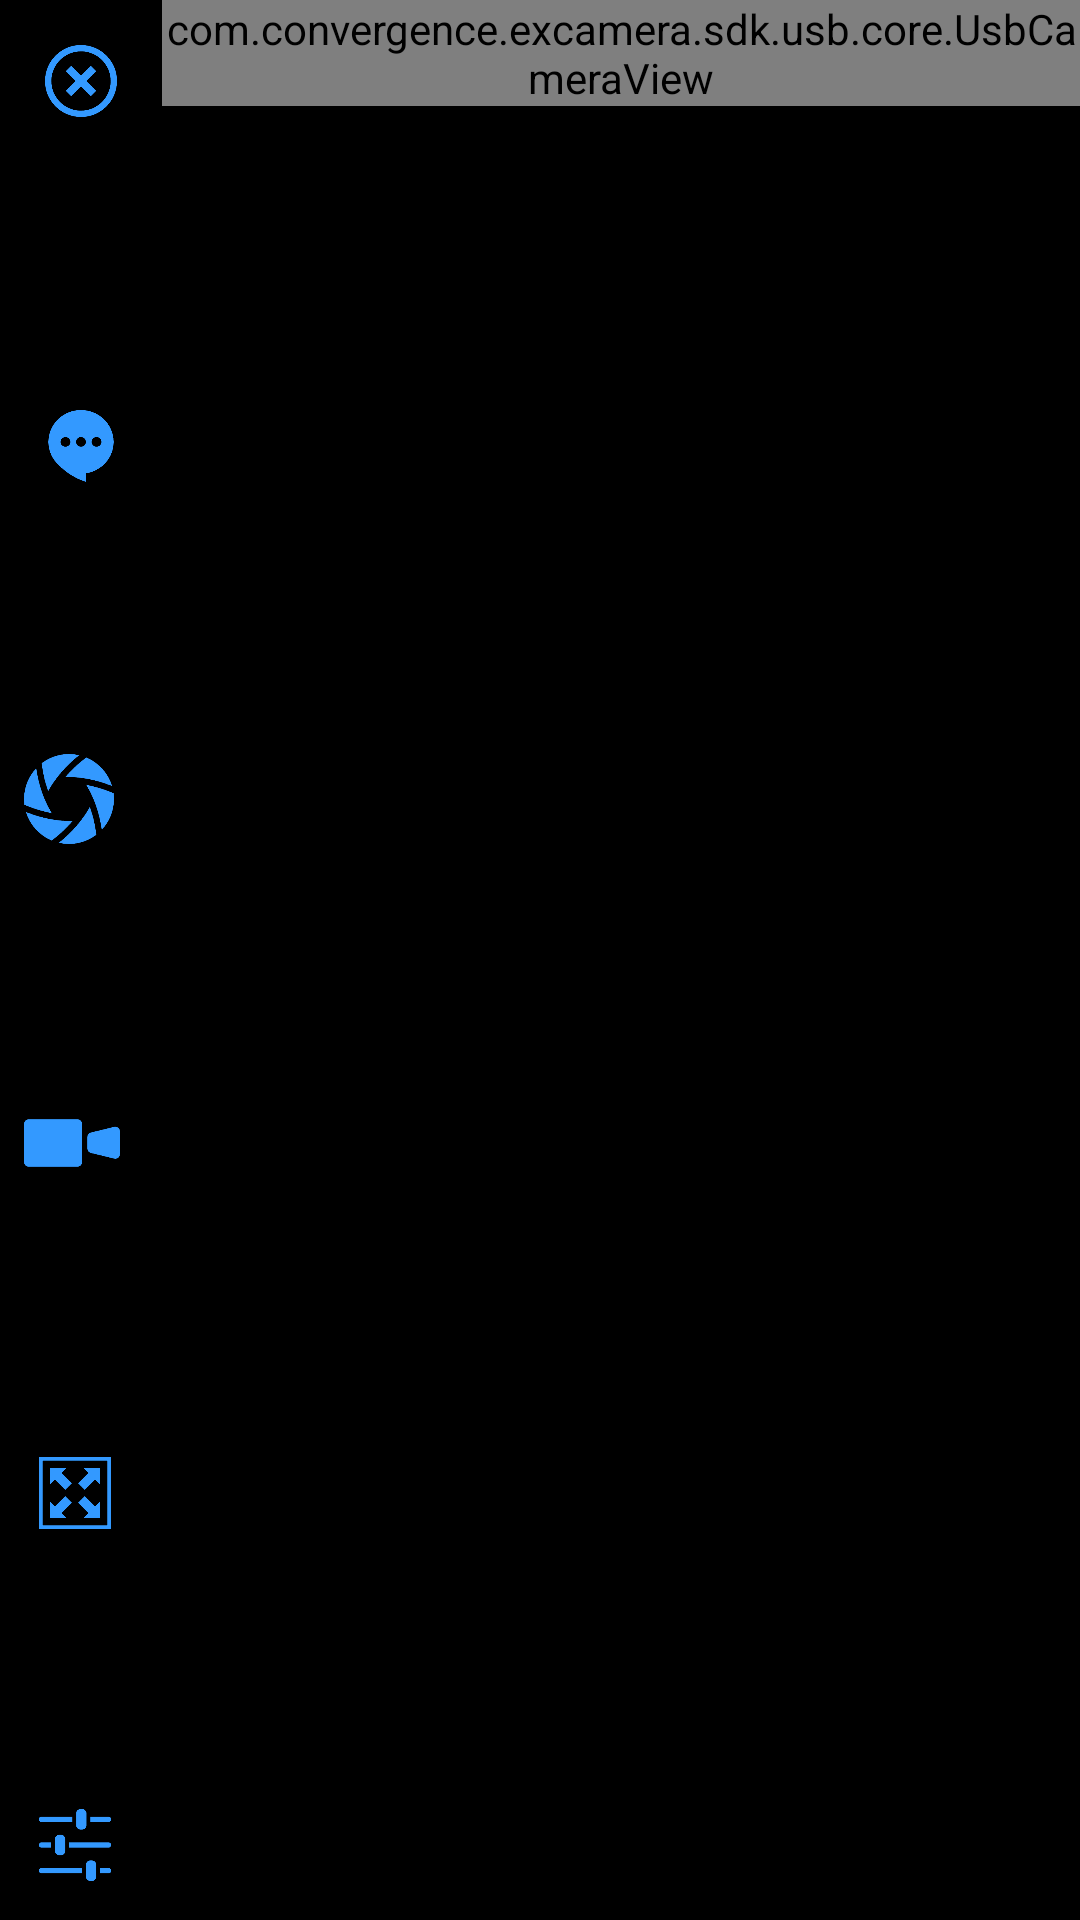

Screen size 1080 x 1920. Icon name, then its center in pixels as (x,y):
usb camera: (69,799)
usb close: (81,81)
usb config: (75,1845)
usb record: (72,1143)
usb screen size: (75,1493)
